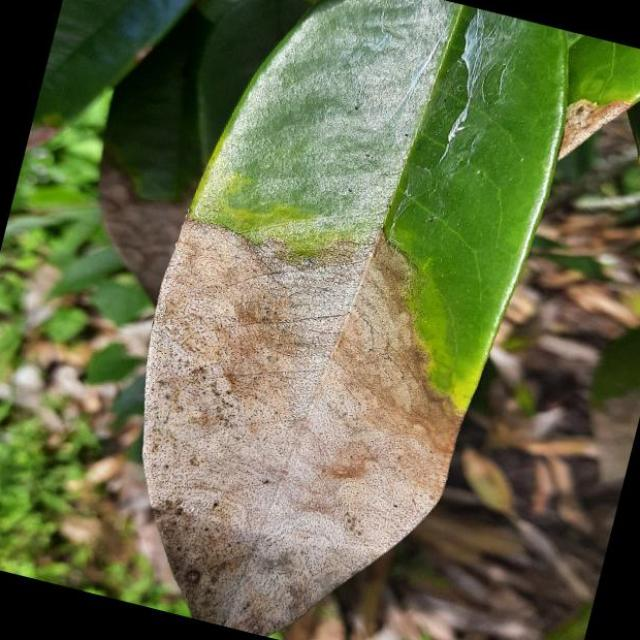Leaf Blight: (80, 0, 598, 640)
